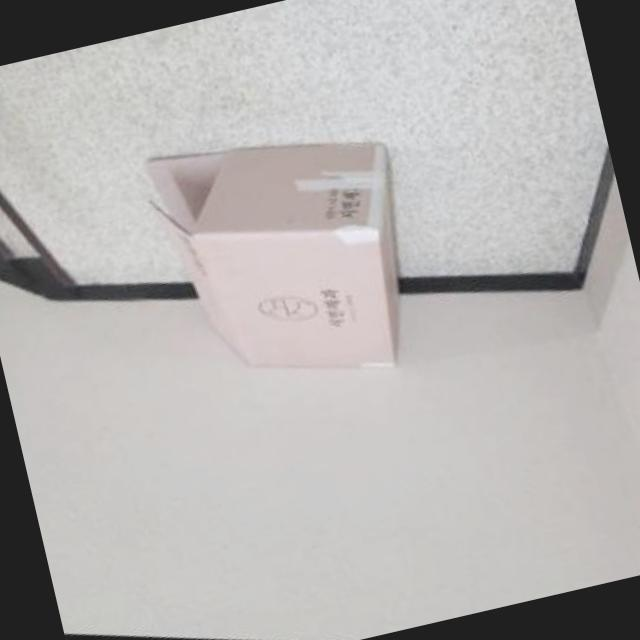box: (70, 68, 464, 444)
